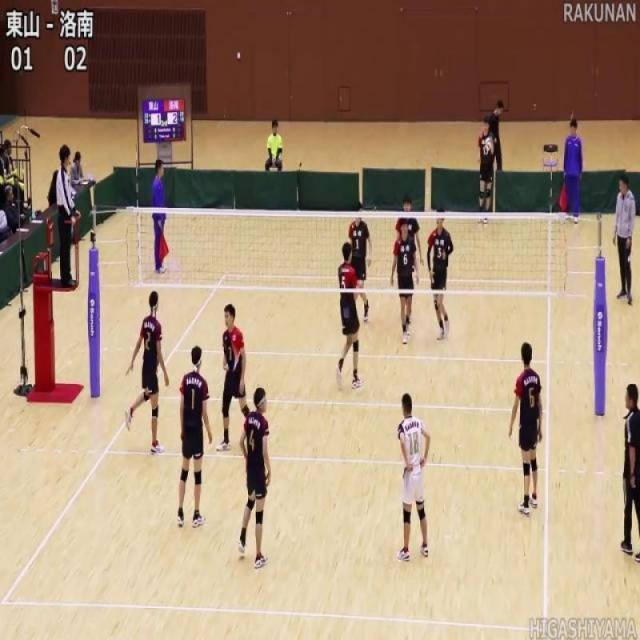volleyball: (485, 136, 492, 151)
